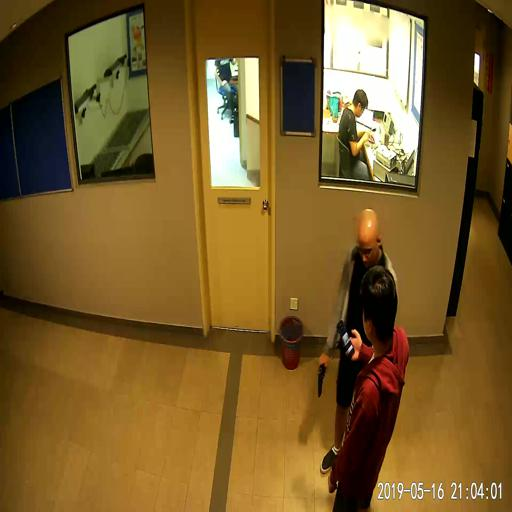pistol: (317, 357, 328, 395)
